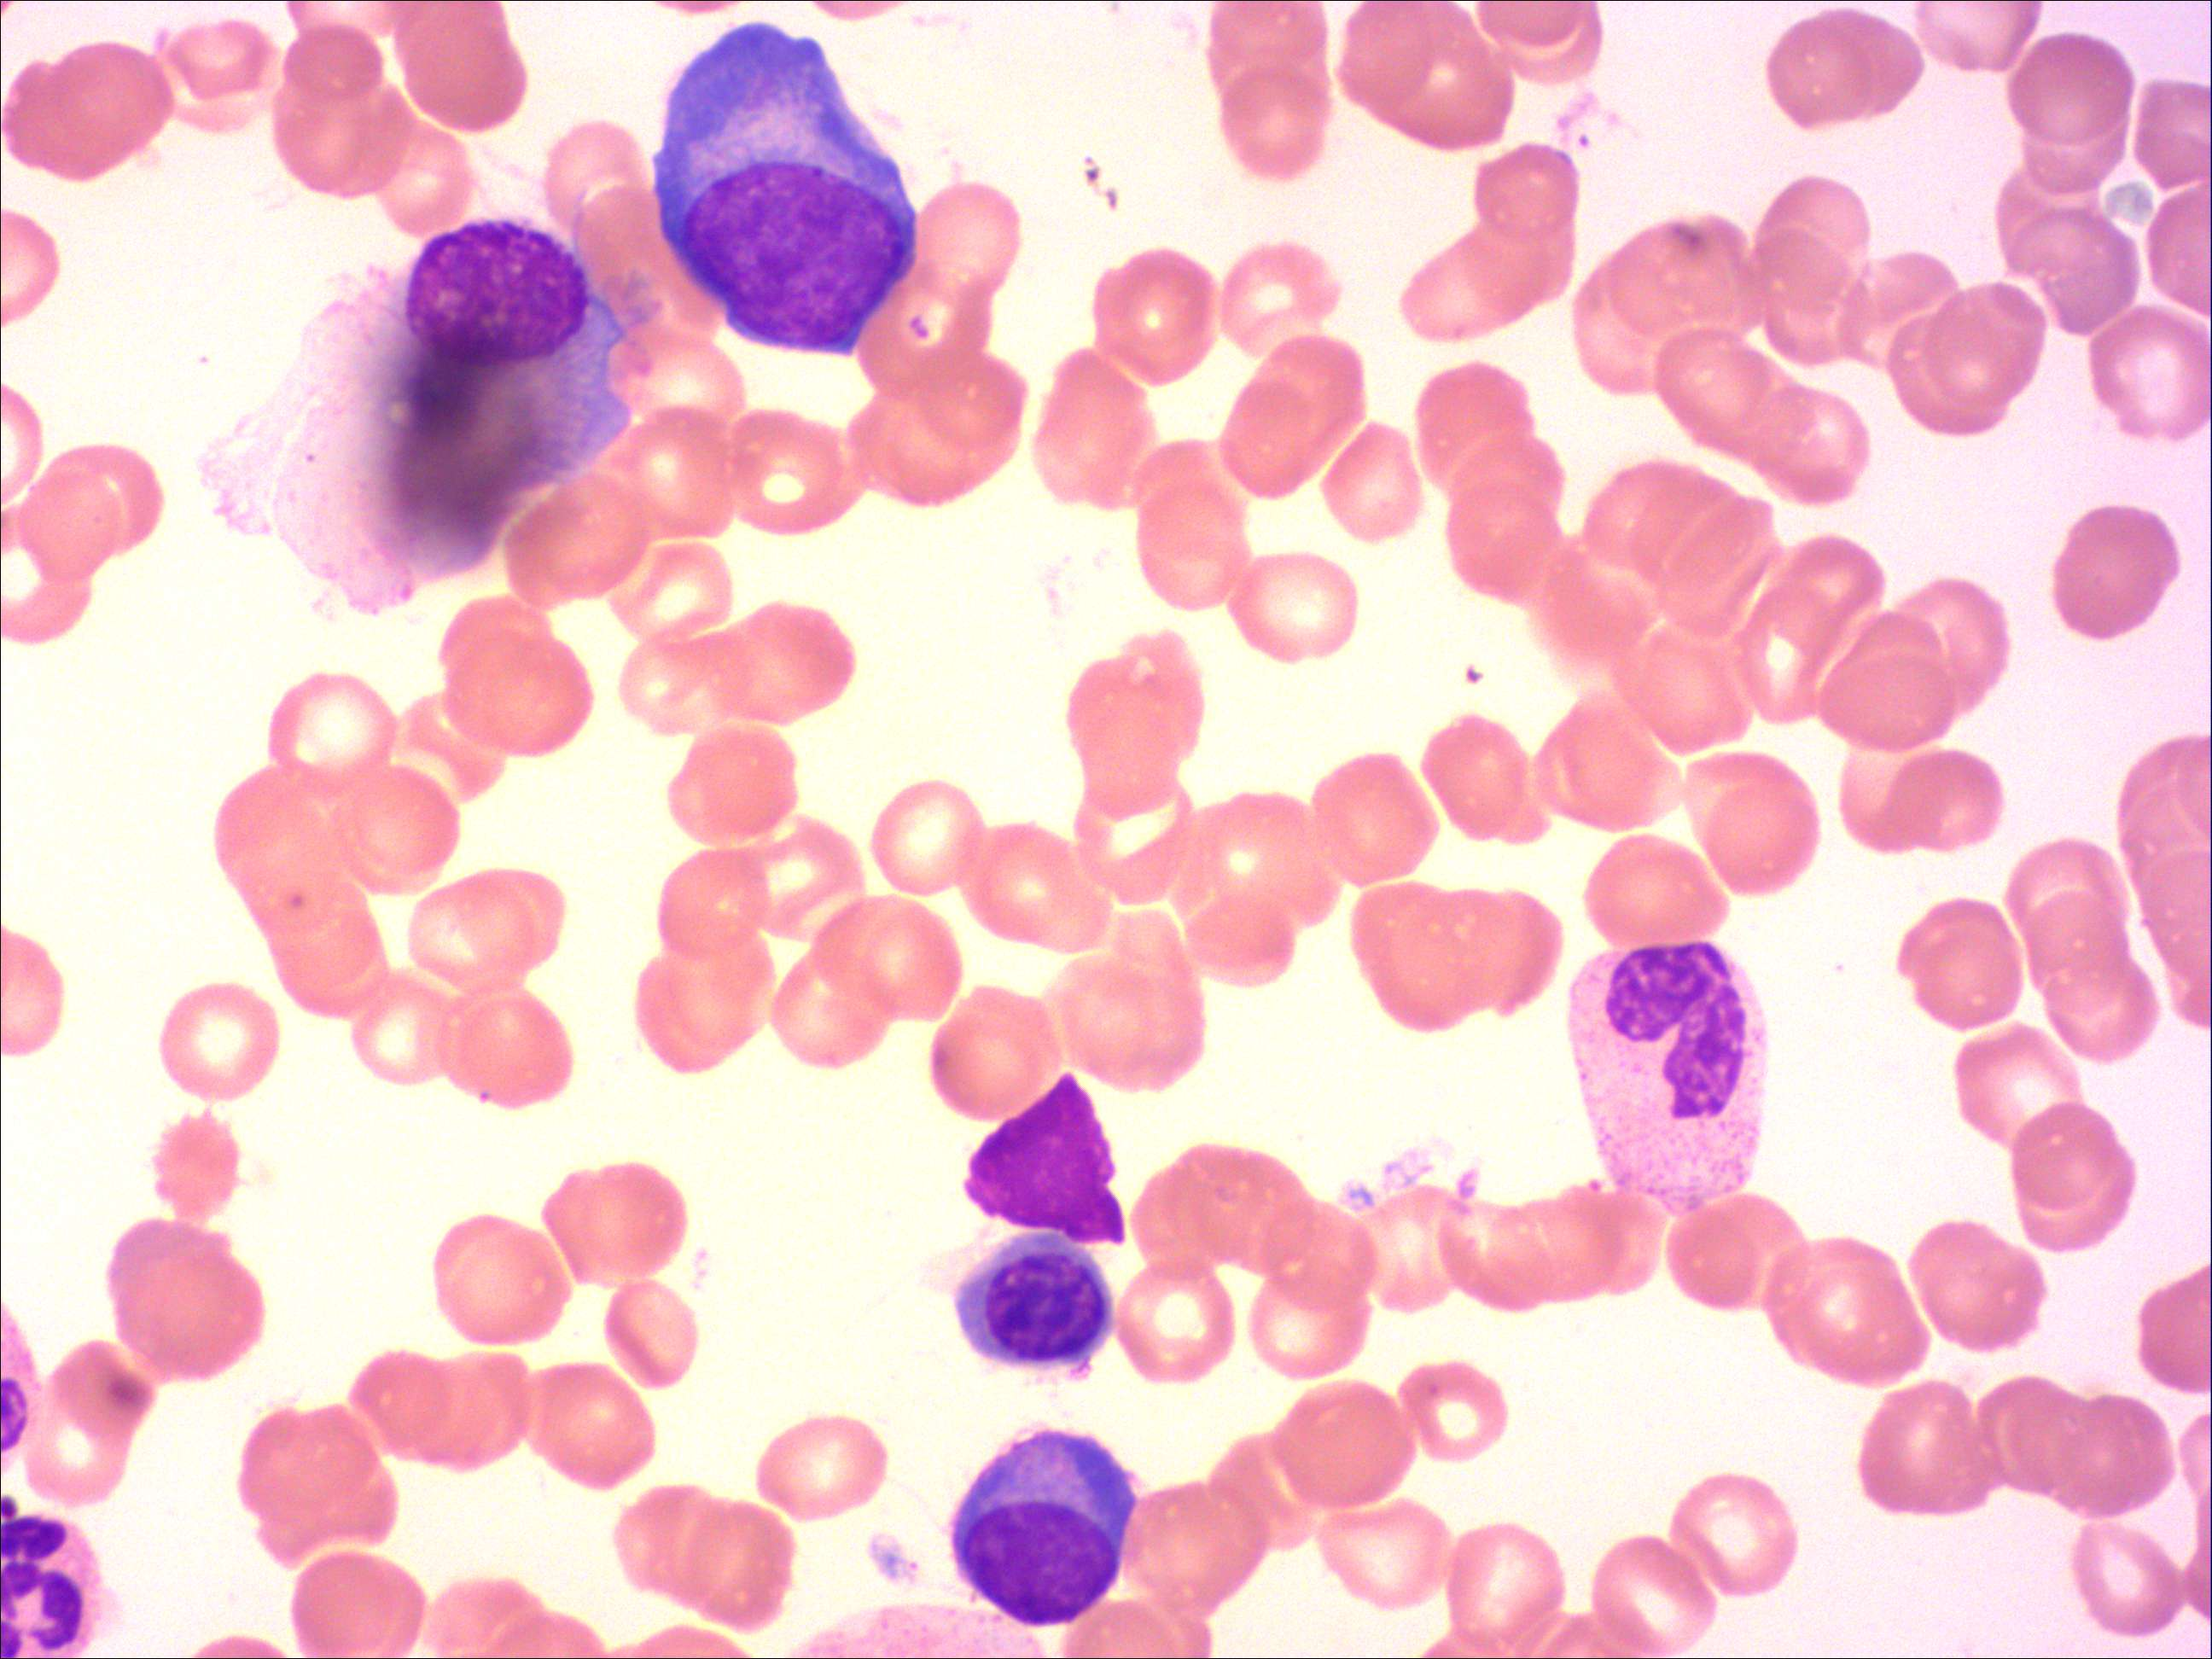23: (951, 1227, 1118, 1377)
5: (1562, 934, 1773, 1222)
51: (646, 19, 923, 364), (946, 1422, 1143, 1633)
x: (193, 211, 636, 627), (956, 1066, 1136, 1251), (0, 1506, 129, 1657)
